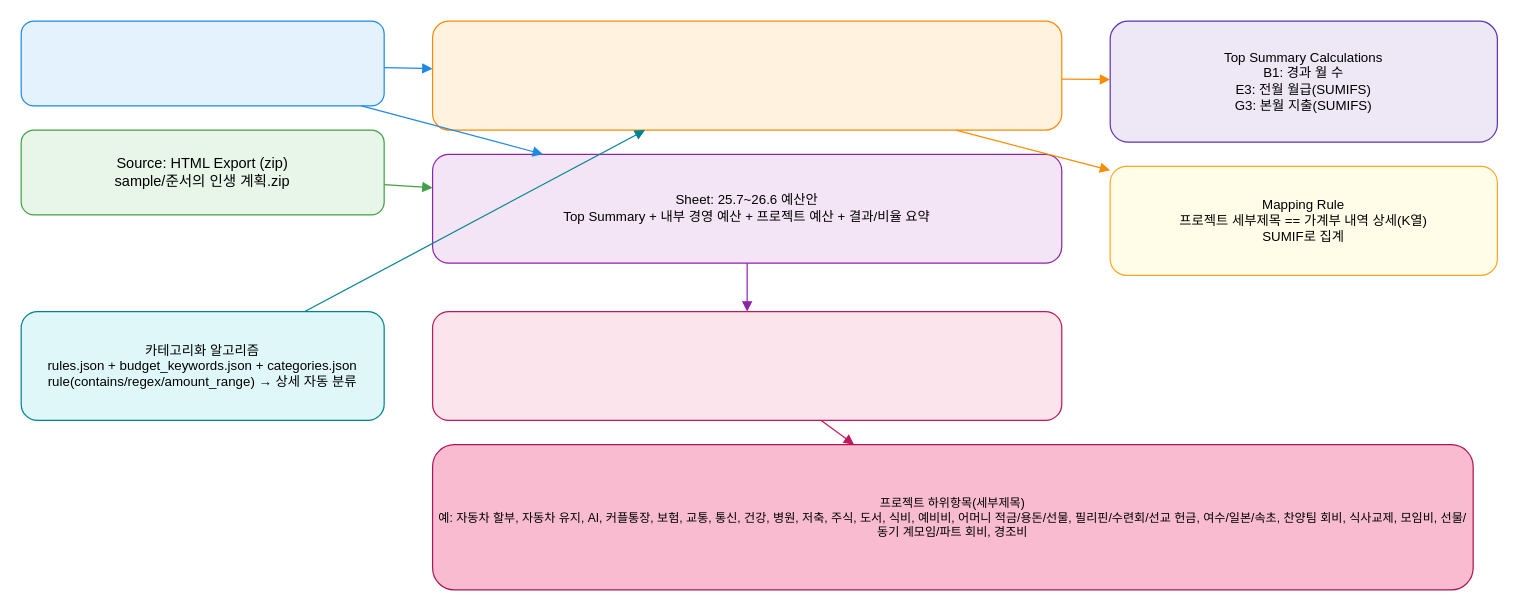
The diagram is 1519 pixels wide and 611 high, and some of its shapes have lost their labels. The box of each missing label's shape, as (x1, y1, x2, y2) in pixels:
Sheet: 가계부 내역 Columns: 날짜/시간/타입/대분류/소분류/내용/금액/화폐/결제수단/메모/상세: (431, 20, 1062, 130)
Source: Excel sample/준서의 인생 계획.xlsx: (20, 20, 384, 106)
프로젝트 상위항목 운영비 / 재무관리 / 개발 / 생활 효도 / 선교 / 여행 / 찬양 / 교회/양육 / ACS / 관계 / 경조사: (431, 310, 1062, 420)
